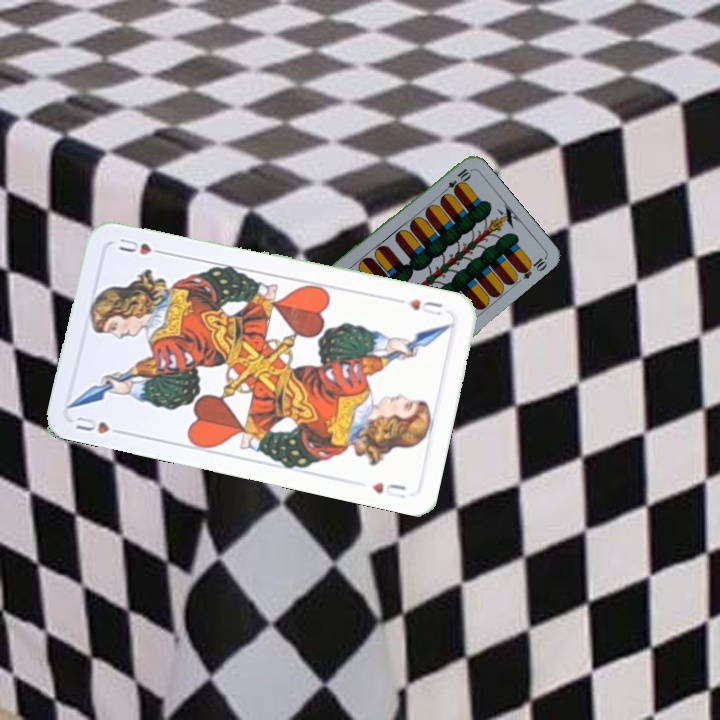E10: (438, 164, 473, 197)
HU: (71, 412, 128, 438), (405, 295, 445, 319)
